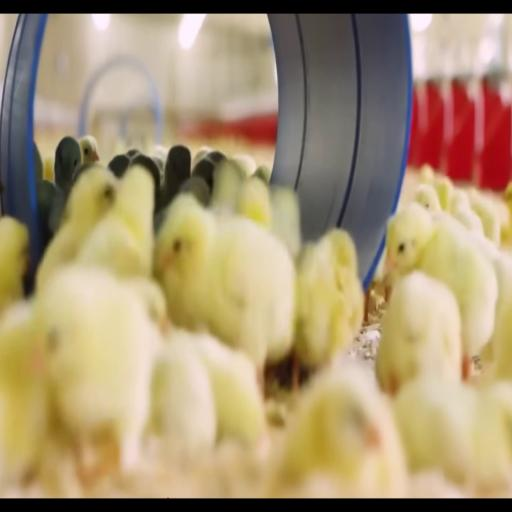chick: (35, 266, 161, 472), (156, 195, 295, 371), (386, 203, 498, 380), (271, 362, 406, 497), (169, 330, 266, 444), (376, 272, 461, 394), (36, 165, 117, 290), (294, 230, 364, 367), (394, 374, 477, 484), (0, 302, 48, 487), (77, 165, 155, 277), (155, 194, 216, 330), (151, 343, 217, 454), (471, 233, 511, 365), (472, 382, 511, 494), (325, 229, 364, 332), (482, 255, 511, 379), (48, 137, 81, 234), (0, 216, 29, 313), (126, 277, 170, 336), (271, 187, 301, 259), (158, 146, 191, 210), (364, 247, 392, 322), (468, 190, 501, 246), (211, 159, 246, 211), (236, 178, 272, 228), (130, 154, 160, 211), (450, 190, 483, 235), (55, 137, 81, 193), (180, 176, 210, 206), (192, 158, 215, 192), (414, 184, 441, 211), (435, 176, 454, 211), (78, 136, 99, 163), (502, 182, 511, 243), (233, 155, 257, 177), (108, 155, 130, 178), (192, 147, 212, 168), (418, 164, 436, 186), (34, 142, 43, 183), (253, 165, 271, 183), (151, 145, 168, 162), (43, 156, 54, 182), (206, 150, 226, 164), (121, 148, 140, 159)
